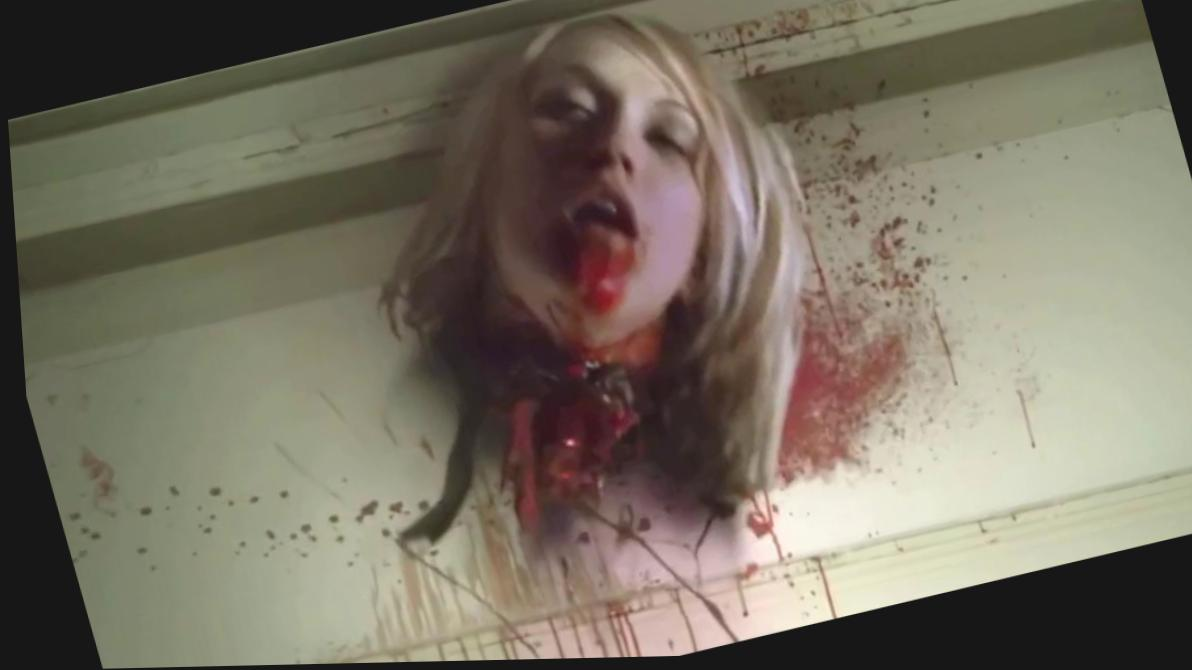Fire: (275, 314, 783, 666), (690, 0, 972, 497), (562, 231, 633, 322), (492, 301, 596, 344)
